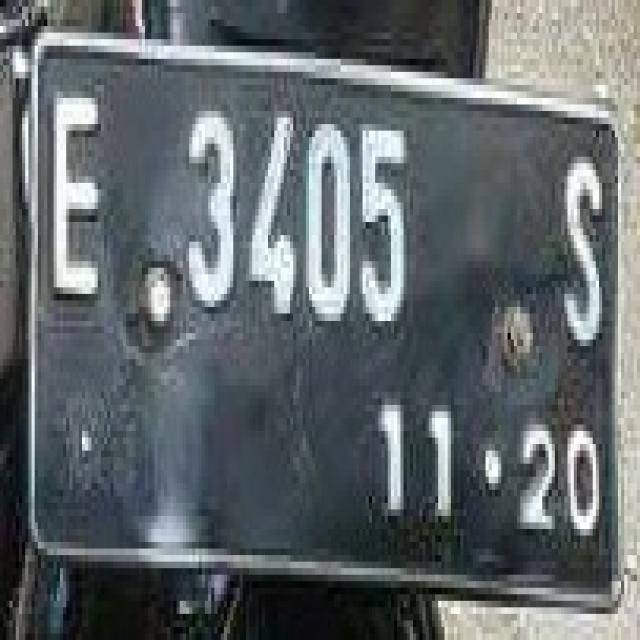plate: (25, 19, 618, 600)
